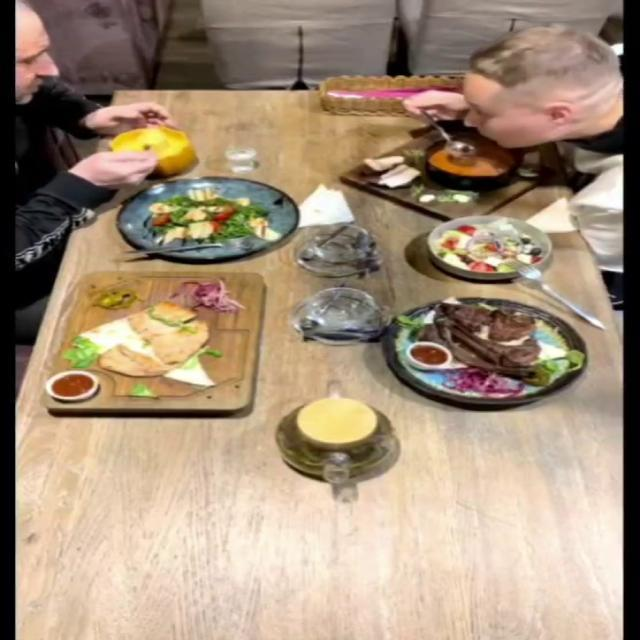meat: (38, 270, 270, 413), (380, 296, 590, 406)
salad: (114, 176, 297, 262), (426, 214, 554, 279)
soup: (337, 126, 562, 220), (109, 125, 198, 176)
tea: (264, 380, 406, 496)
